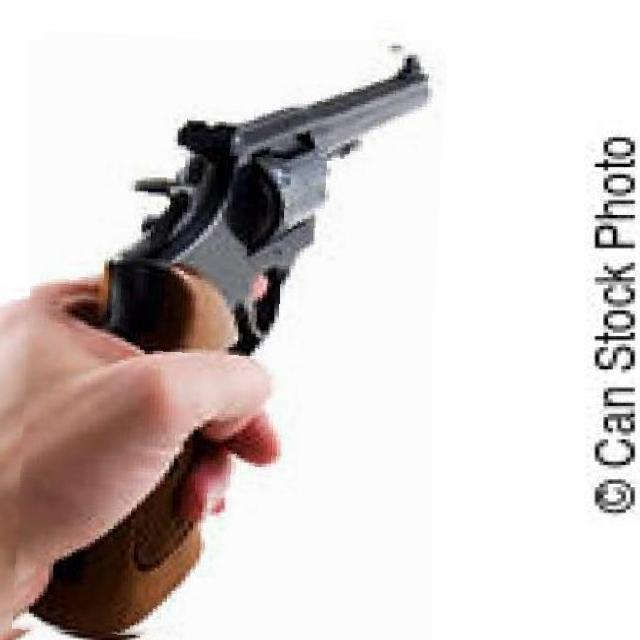handgun: (19, 35, 439, 640)
